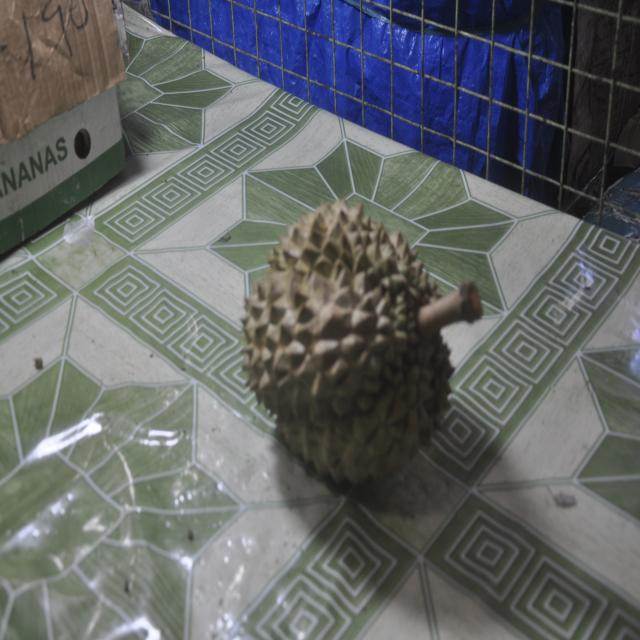mature: (242, 200, 481, 483)
